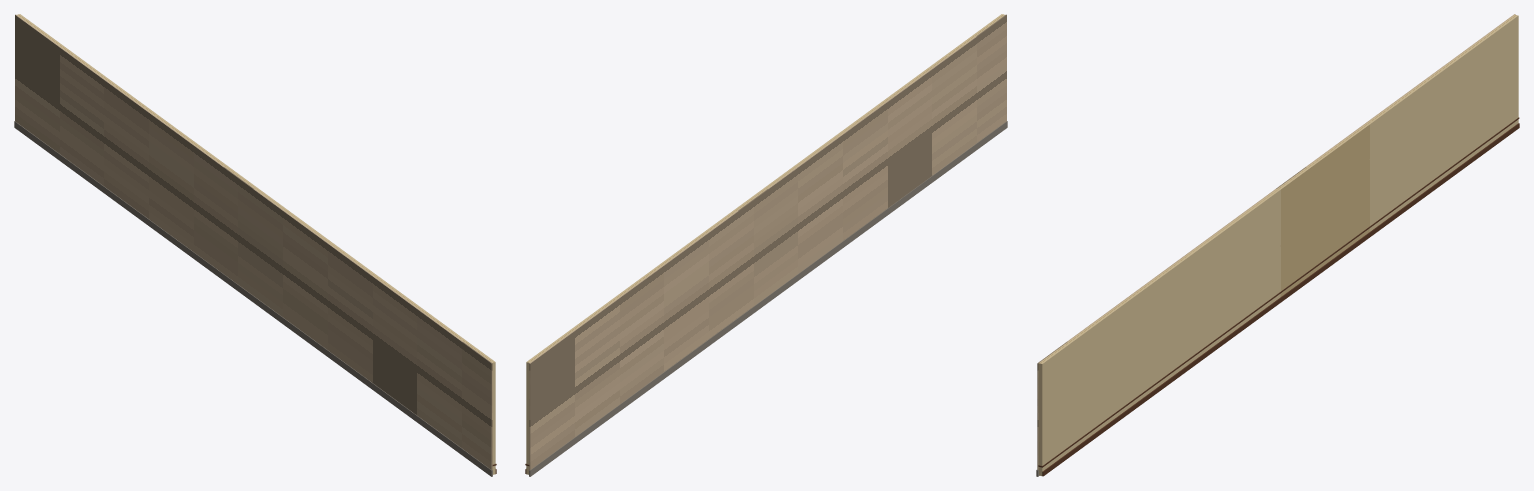
Rendered from mall_left.glb.
The picture shows the model from 3 angles, left to right: view 1: azimuth 30°, elevation 25°; view 2: azimuth 150°, elevation 25°; view 3: azimuth 330°, elevation 25°; orthographic projection.
Visible parts, largest first — view 1: Box3, Box4, Box1; view 2: Box3, Box4, Box1; view 3: Box1, Box2, Box5, Box6, Box3.
Boxes of the visible parts, x1,y1,x2,y2 form: Box3: (15,14,492,469); Box4: (14,121,492,476); Box1: (17,14,495,474); Box3: (529,14,1006,469); Box4: (529,121,1007,476); Box1: (526,14,1004,474); Box1: (1038,14,1518,475); Box2: (1042,123,1519,476); Box5: (1039,120,1518,475); Box6: (1038,117,1519,467); Box3: (1037,14,1515,469).
Bounding box in the file's own units: 0.25 × 4.44 × 33.97.
Materials: 4 (2 with a texture image).
